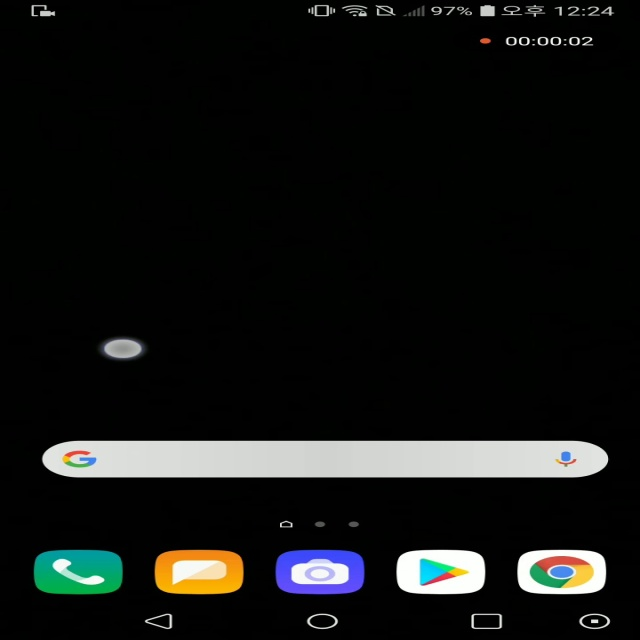Cursor: (101, 338, 145, 360)
